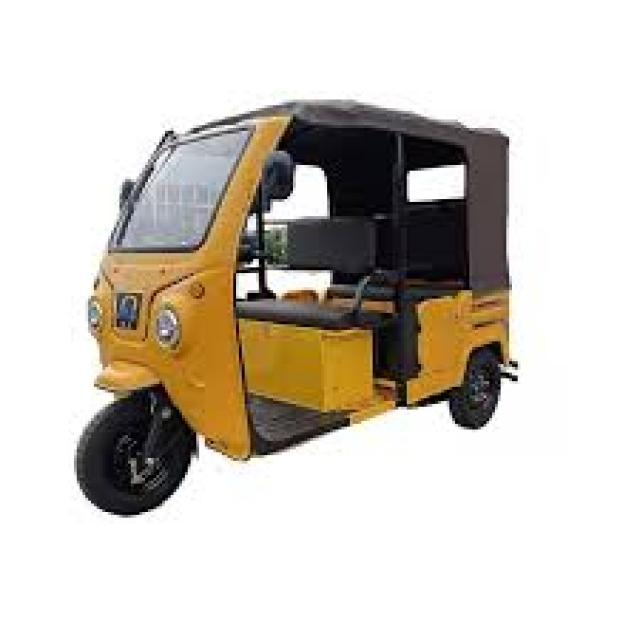tuktuk: (37, 43, 534, 546)
